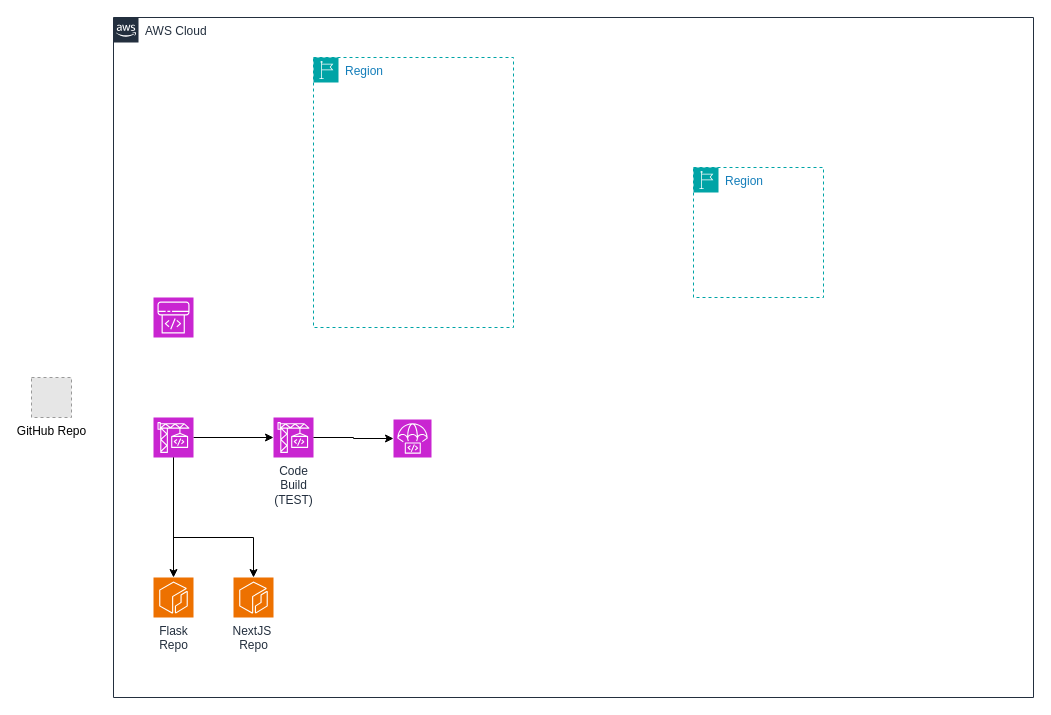
Image size: 1051x715. Some labels were removed from this diagram. Grey dashed boxes stand in for pictures. The centre of each missing label's shape, as x and y in pixels:
"Co de Pipeline" goes at pixel 173 317.
"Code Build (BUILD)" goes at pixel 173 437.
"Code Deploy\ (DEV)" goes at pixel 412 438.
